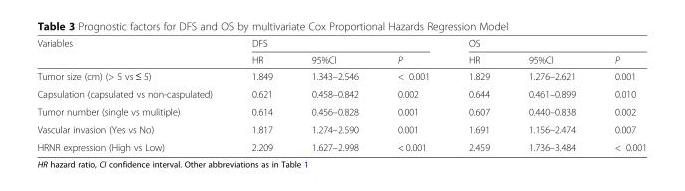table: (36, 37, 646, 152)
table column: (36, 37, 231, 152), (291, 37, 377, 152), (508, 37, 594, 152), (377, 37, 448, 152), (231, 37, 291, 152), (448, 37, 508, 152), (594, 37, 646, 152)
table column header: (36, 37, 646, 67)
table row: (36, 84, 646, 102), (36, 102, 646, 120), (36, 67, 646, 84), (36, 120, 646, 137), (36, 51, 646, 67), (36, 137, 646, 152), (36, 37, 646, 51)
table spanning cell: (36, 37, 231, 67), (231, 37, 448, 51), (448, 37, 646, 51)
